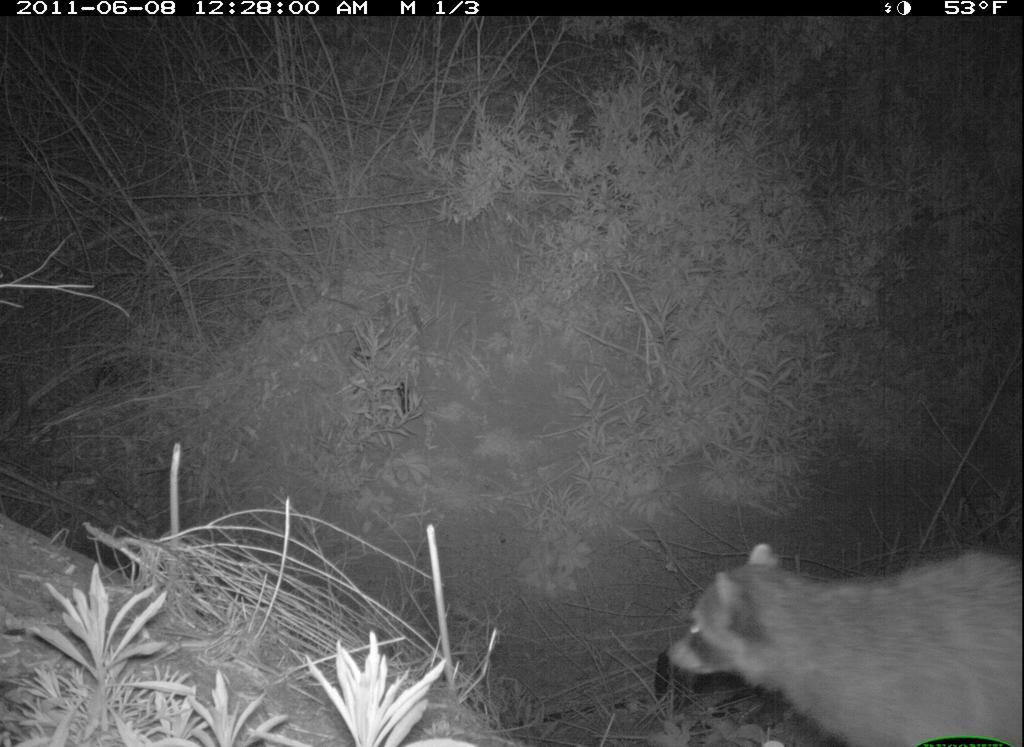raccoon: (665, 534, 1023, 745)
